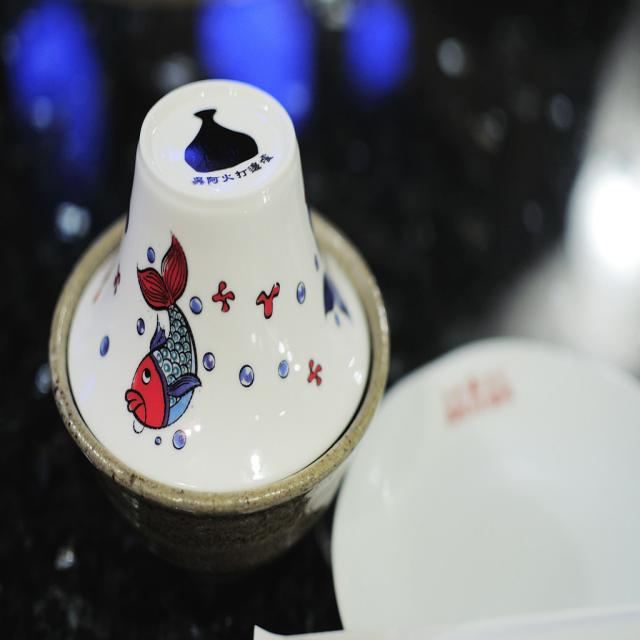non-organic waste: (312, 314, 640, 640)
